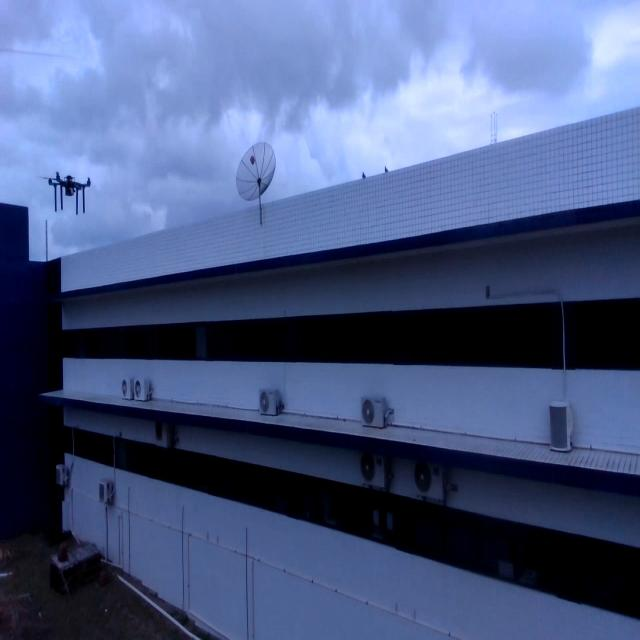-uav-: (40, 164, 99, 224)
